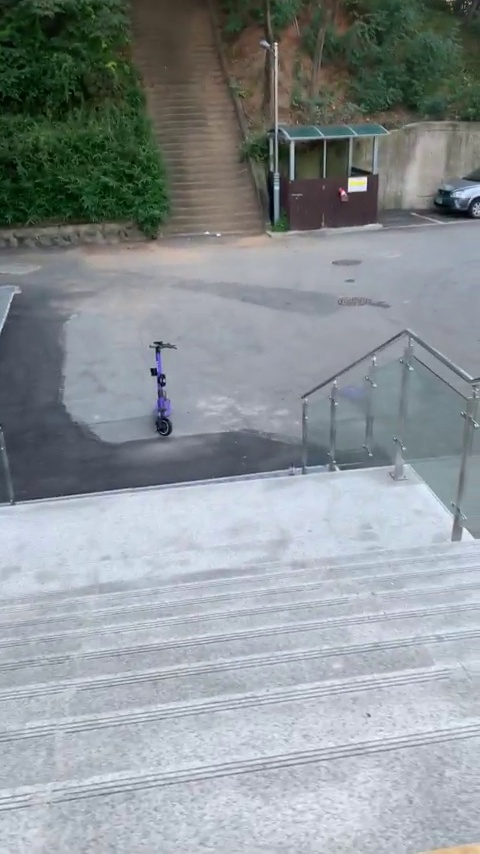beam: (145, 337, 185, 442)
